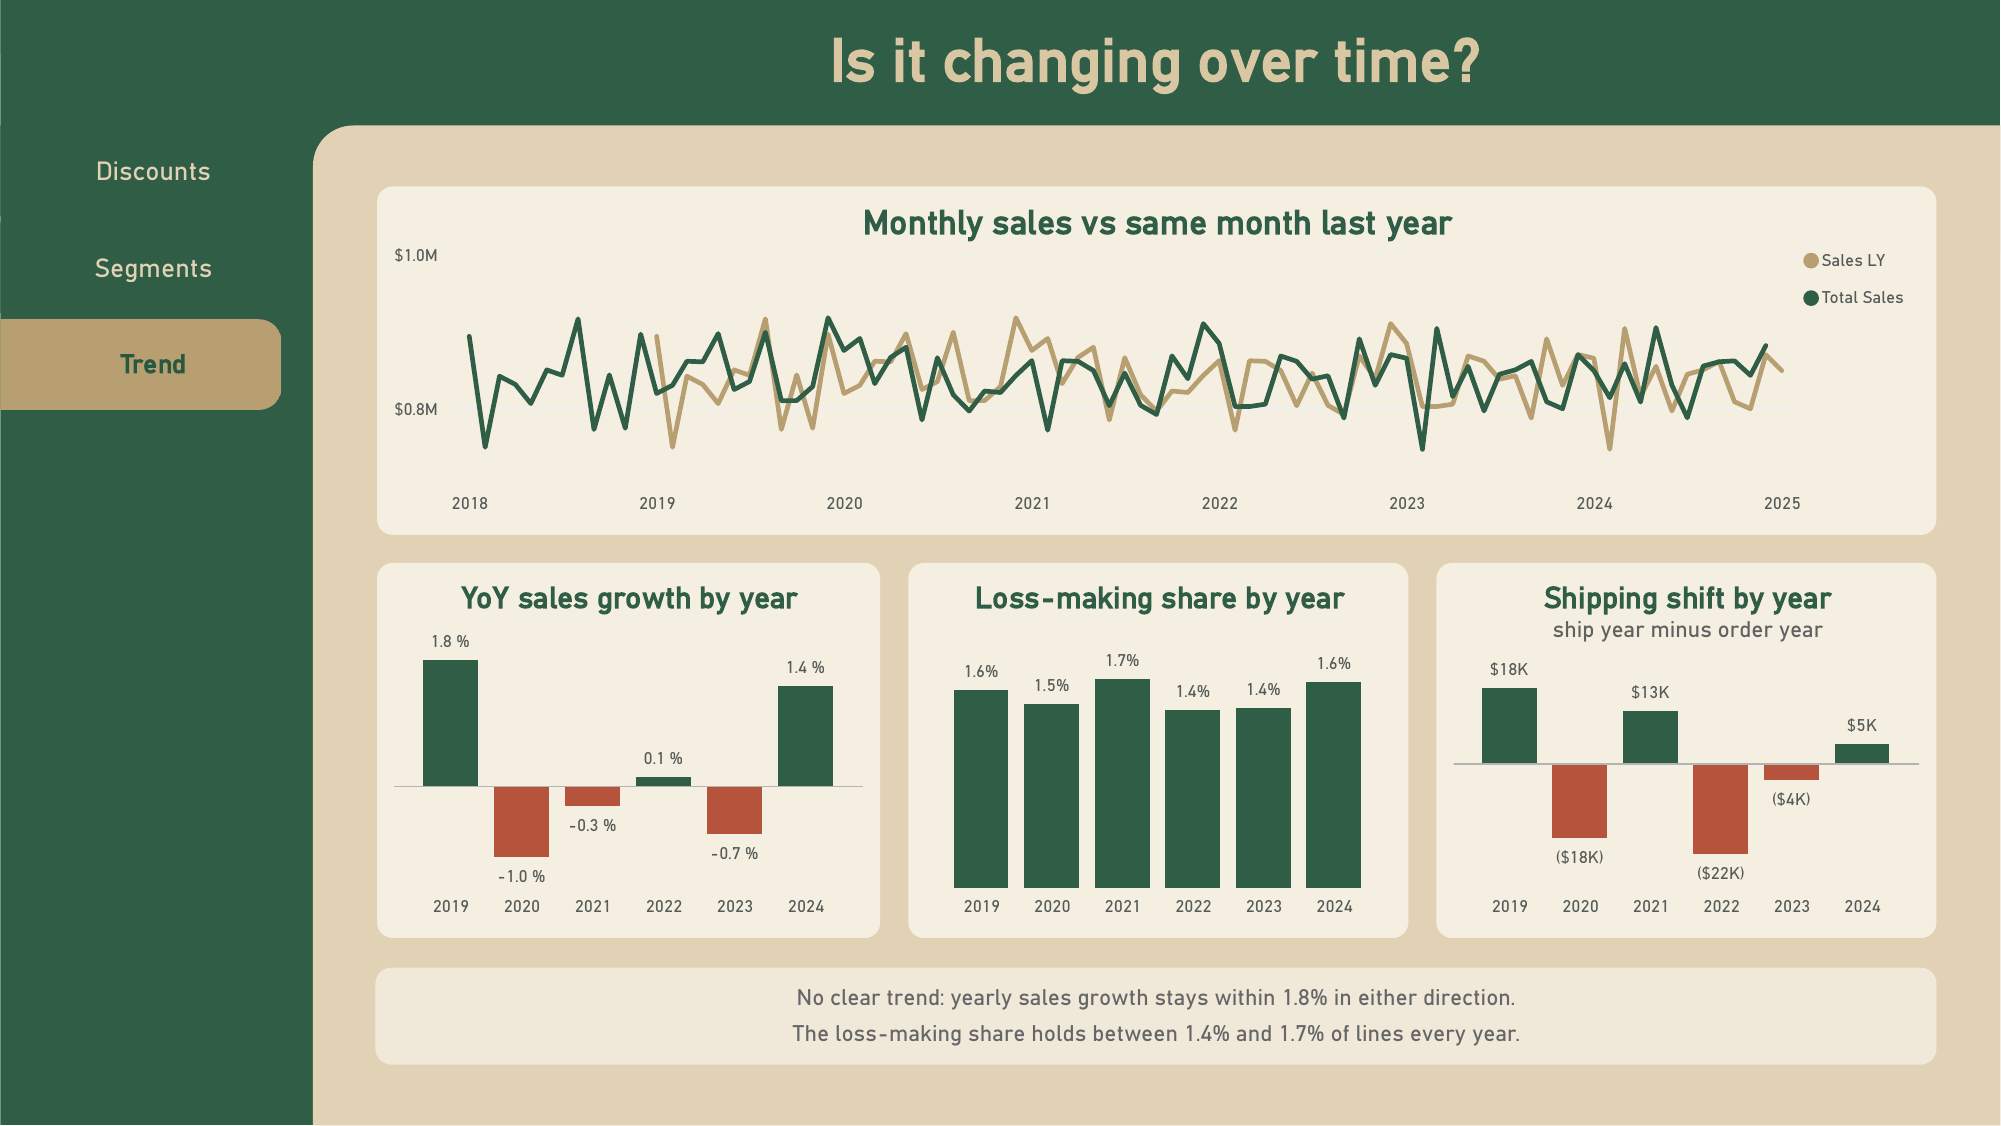

Layout of this report page (visuals, bound fields, positions):
{"tool":"powerbi","page":{"name":"Trend","canvas":[1280,720],"ordinal":2},"visuals":[{"type":"shape","box":[200.3,80.1,1080,640],"z":0},{"type":"textbox","box":[200.4,16,1079.6,60],"z":1000},{"type":"pageNavigator","box":[0,79.8,200.4,182.9],"z":2000},{"type":"lineChart","title":"Monthly sales vs same month last year","fields":{"Category":["DimDate.MonthStart"],"Y":["FactSales.Sales LY","FactSales.Total Sales"]},"box":[240.8,118.6,998.5,223.1],"z":3000},{"type":"clusteredColumnChart","title":"Loss-making share by year","fields":{"Category":["DimDate.Year"],"Y":["FactSales.Loss-making Share"]},"box":[580.7,360.3,320.4,239.9],"z":4000},{"type":"clusteredColumnChart","title":"YoY sales growth by year","fields":{"Category":["DimDate.Year"],"Y":["FactSales.Sales YoY %"]},"box":[240.8,360.3,322,240],"z":5000},{"type":"clusteredColumnChart","title":"Shipping shift by year","fields":{"Category":["DimDate.Year"],"Y":["FactSales.Ship vs Order Shift"]},"box":[918.8,360.3,320.4,239.9],"z":6000},{"type":"shape","box":[240.4,619,998.6,62.1],"z":6001},{"type":"cardVisual","fields":{"Data":["FactSales.Trend Line 1"]},"box":[240.4,623,998.6,28],"z":6002},{"type":"cardVisual","fields":{"Data":["FactSales.Trend Line 2"]},"box":[240.4,646,998.6,28],"z":6003}]}

Visuals, with their boxes in screenshot pixels (x1, y1, x2, y2), scaled from the page's 1280x720 canvas onto the 2001x1126 screenshot:
shape: (313,125,2000,1125)
textbox: (313,25,2000,119)
pageNavigator: (0,125,313,411)
"Monthly sales vs same month last year" lineChart: (376,185,1937,534)
"Loss-making share by year" clusteredColumnChart: (908,563,1409,939)
"YoY sales growth by year" clusteredColumnChart: (376,563,880,939)
"Shipping shift by year" clusteredColumnChart: (1436,563,1937,939)
shape: (376,968,1937,1065)
cardVisual - FactSales.Trend Line 1: (376,974,1937,1018)
cardVisual - FactSales.Trend Line 2: (376,1010,1937,1054)
